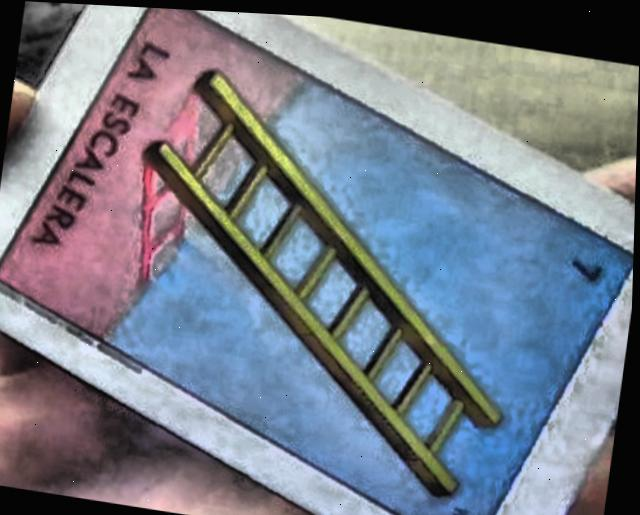La Escalera: (0, 6, 635, 515)
